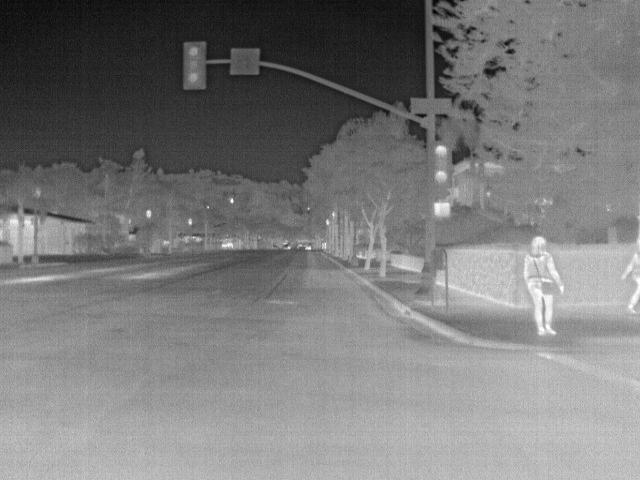person: (522, 235, 567, 336), (618, 248, 639, 316)
